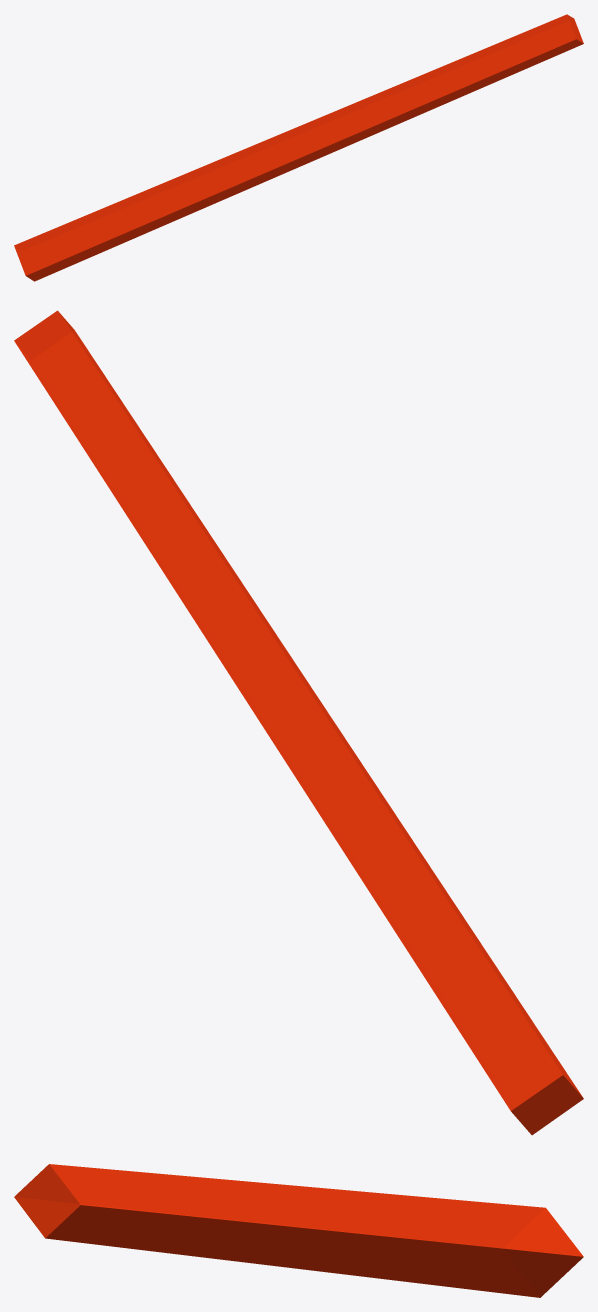
The model's file is Event_421364160_EBrechit_9.fbx.
The picture shows the model from 3 angles, top to bottom: view 1: azimuth 30°, elevation 25°; view 2: azimuth 150°, elevation 25°; view 3: azimuth 270°, elevation 25°; orthographic projection. The views are drawn at different scales.
Parts seen in each view (by area): view 1: Model; view 2: Model; view 3: Model.
Part boxes in pixels (left/top/right/bottom): Model: left=14, top=14, right=583, bottom=281; Model: left=14, top=310, right=583, bottom=1135; Model: left=14, top=1164, right=583, bottom=1297.
Size of the model in its own units: 1.01 by 0.5951 by 0.6237.
